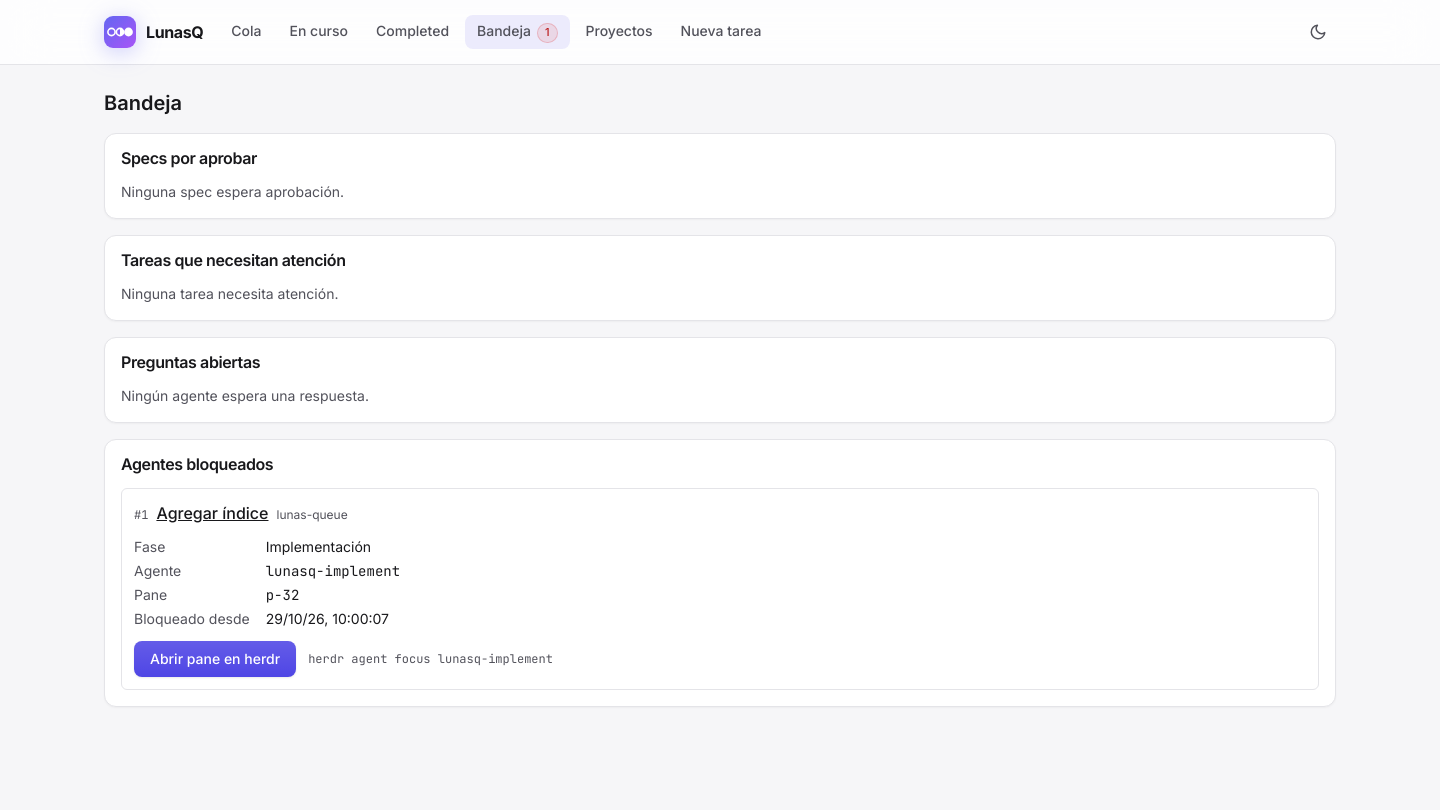
bandeja › muestra el agente bloqueado y enfoca su pane en herdr
Click the button "Abrir pane en herdr" at [215, 659], box [134,641,296,677]
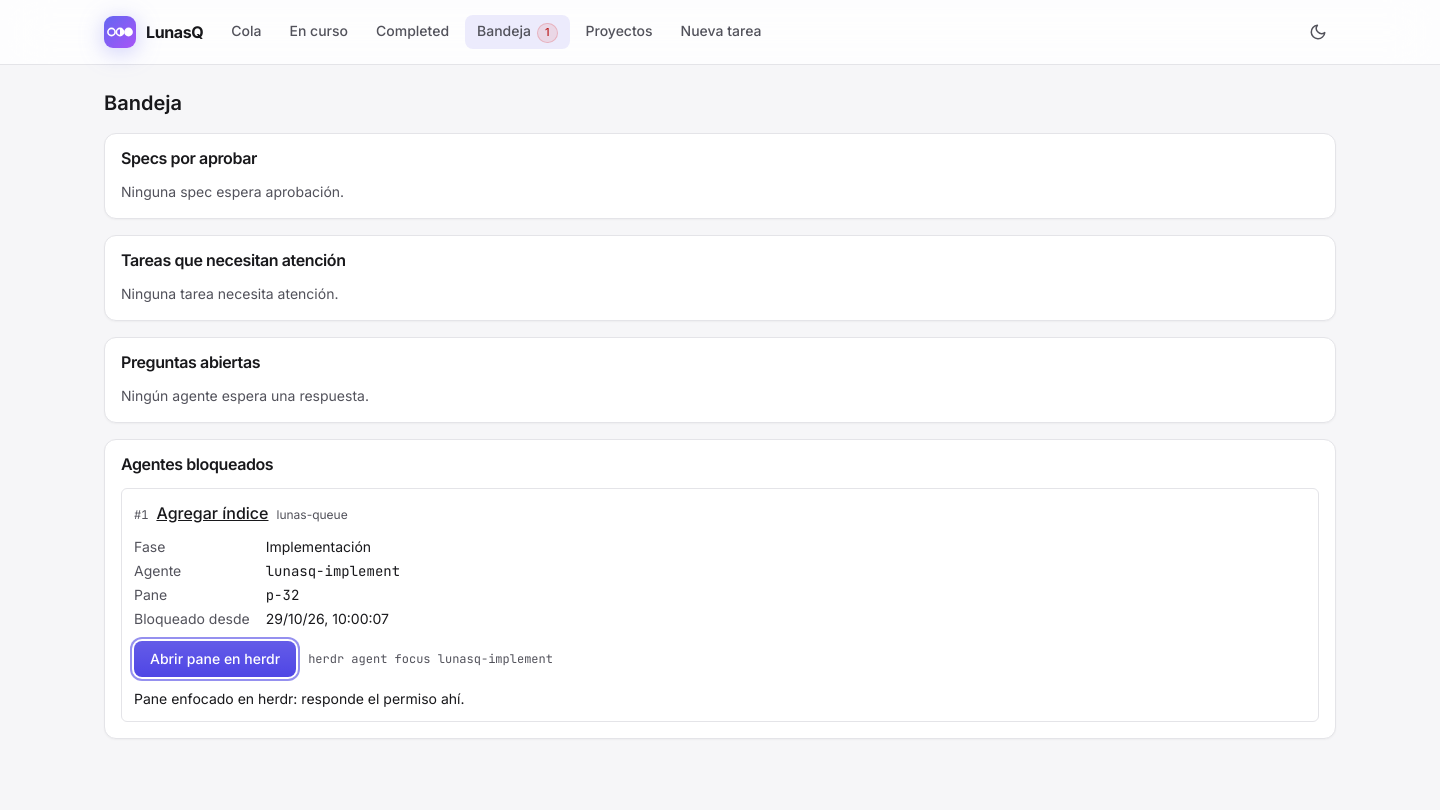
Now the message reads "Pane enfocado en herdr: responde el permiso ahí.", box [134,690,464,707]
